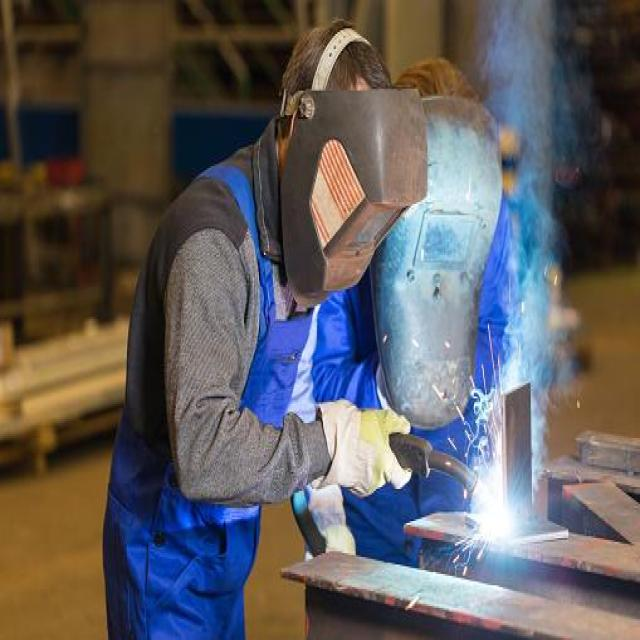welding: (475, 474, 506, 537)
